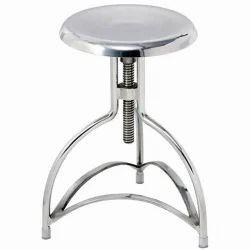stool: (41, 2, 208, 247)
